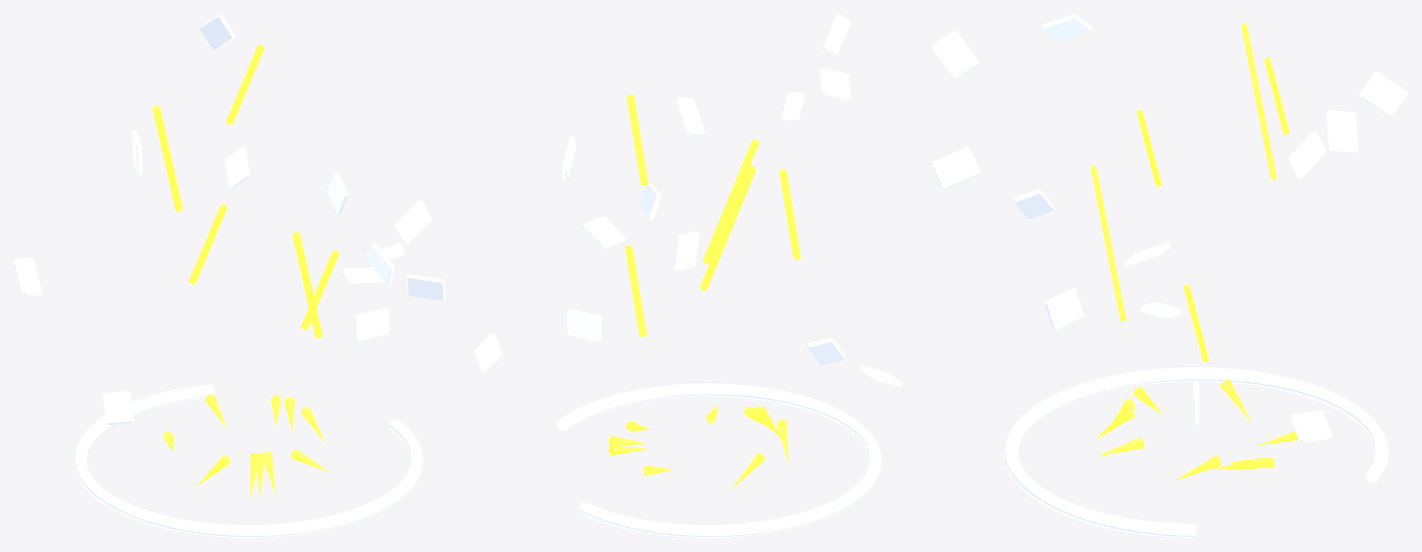
The model's file is vfx_status_shred.glb.
3 views of the same model, side by side, from view 1: azimuth 30°, elevation 25°; view 2: azimuth 150°, elevation 25°; view 3: azimuth 270°, elevation 25° (orthographic). The views are drawn at different scales.
Parts seen in each view (by area): view 1: shred_ring, shred_sparks, shred_chip0, shred_chip4, shred_chip10, shred_seam1, shred_seam3, shred_chip1, shred_chip5, shred_chip7, shred_chip3, shred_seam2 (+5 smaller); view 2: shred_ring, shred_sparks, shred_seam3, shred_seam1, shred_chip0, shred_chip6, shred_chip9, shred_chip3, shred_seam0, shred_seam4, shred_seam2, shred_chip5 (+5 smaller); view 3: shred_ring, shred_sparks, shred_chip2, shred_chip11, shred_chip6, shred_chip7, shred_chip1, shred_seam1, shred_seam3, shred_chip8, shred_chip5, shred_chip3 (+1 smaller).
Boxes of the visible parts, x1=… form: shred_ring: x1=73, y1=384, x2=423, y2=537; shred_sparks: x1=163, y1=394, x2=328, y2=498; shred_chip0: x1=354, y1=307, x2=389, y2=341; shred_chip4: x1=102, y1=391, x2=133, y2=425; shred_chip10: x1=394, y1=200, x2=431, y2=243; shred_seam1: x1=292, y1=231, x2=322, y2=338; shred_seam3: x1=152, y1=105, x2=182, y2=211; shred_chip1: x1=407, y1=274, x2=445, y2=300; shred_chip5: x1=14, y1=258, x2=42, y2=295; shred_chip7: x1=199, y1=14, x2=235, y2=50; shred_chip3: x1=225, y1=146, x2=249, y2=189; shred_seam2: x1=189, y1=204, x2=227, y2=284; shred_ring: x1=557, y1=383, x2=881, y2=537; shred_sparks: x1=608, y1=405, x2=788, y2=489; shred_seam3: x1=703, y1=139, x2=759, y2=264; shred_seam1: x1=700, y1=165, x2=756, y2=290; shred_chip0: x1=567, y1=308, x2=601, y2=342; shred_chip6: x1=672, y1=231, x2=699, y2=270; shred_chip9: x1=582, y1=216, x2=625, y2=248; shred_chip3: x1=819, y1=67, x2=851, y2=100; shred_seam0: x1=625, y1=245, x2=646, y2=336; shred_seam4: x1=626, y1=94, x2=648, y2=185; shred_seam2: x1=779, y1=169, x2=800, y2=259; shred_chip5: x1=807, y1=338, x2=845, y2=365; shred_ring: x1=1004, y1=367, x2=1388, y2=537; shred_sparks: x1=1095, y1=379, x2=1298, y2=480; shred_chip2: x1=931, y1=147, x2=980, y2=189; shred_chip11: x1=931, y1=30, x2=978, y2=78; shred_chip6: x1=1326, y1=110, x2=1358, y2=152; shred_chip7: x1=1359, y1=71, x2=1407, y2=116; shred_chip1: x1=1044, y1=288, x2=1083, y2=329; shred_seam1: x1=1090, y1=165, x2=1126, y2=321; shred_seam3: x1=1241, y1=24, x2=1276, y2=179; shred_chip8: x1=1290, y1=409, x2=1332, y2=443; shred_chip5: x1=1288, y1=131, x2=1326, y2=178; shred_chip3: x1=1042, y1=14, x2=1091, y2=41.
Bounding box in the file's own units: 1.64 × 1.65 × 1.67.
